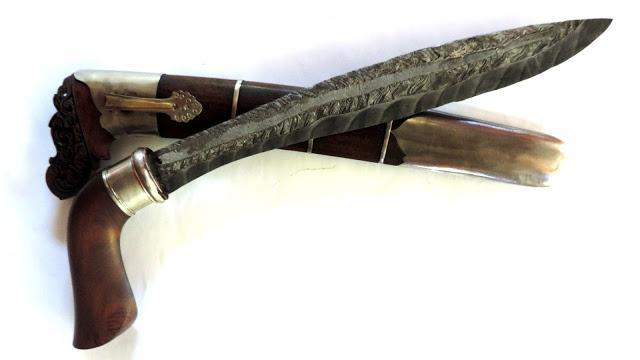facao: (101, 20, 608, 215)
